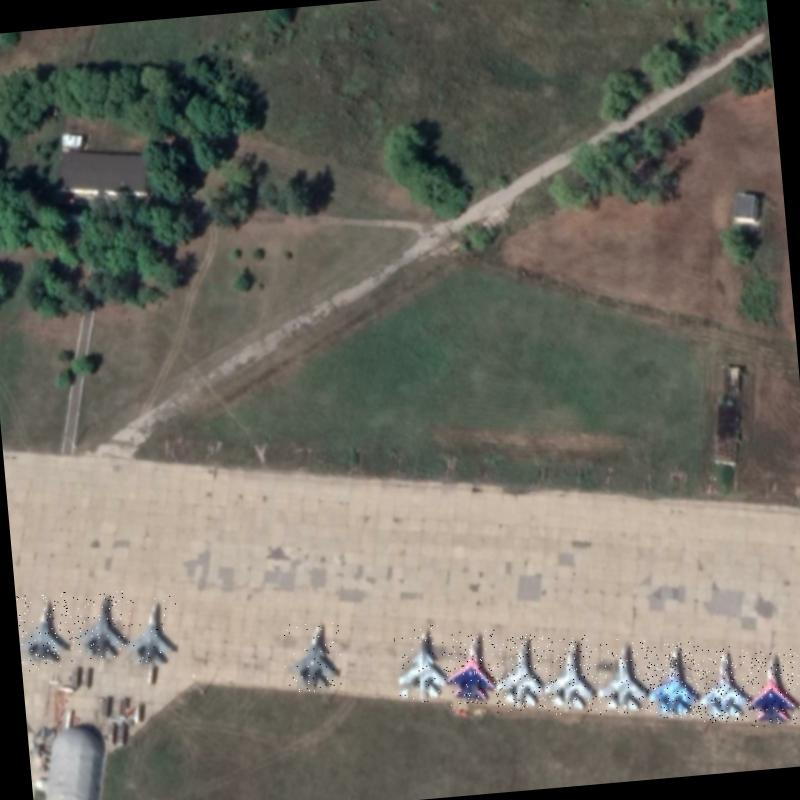A1: (590, 636, 653, 716), (539, 634, 600, 716), (691, 644, 752, 724), (741, 648, 800, 729), (644, 641, 704, 720), (17, 592, 76, 672), (440, 629, 500, 707), (491, 632, 549, 712), (125, 596, 184, 670), (72, 590, 128, 663)
A19: (392, 624, 452, 704), (281, 620, 344, 696)
